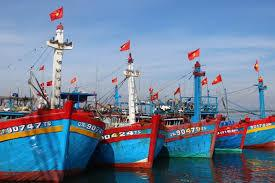Ship: (1, 25, 105, 183), (94, 54, 165, 169), (165, 62, 220, 159), (245, 78, 275, 149), (216, 124, 249, 153)
